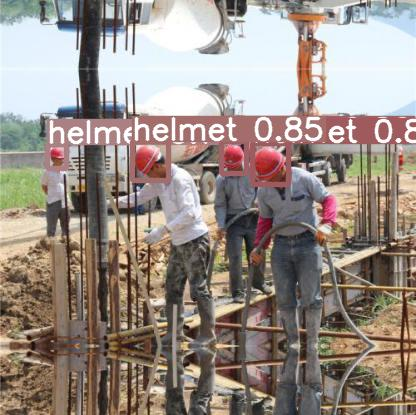helmet: (252, 143, 288, 184), (132, 141, 168, 180), (221, 141, 246, 173), (47, 144, 66, 168)
